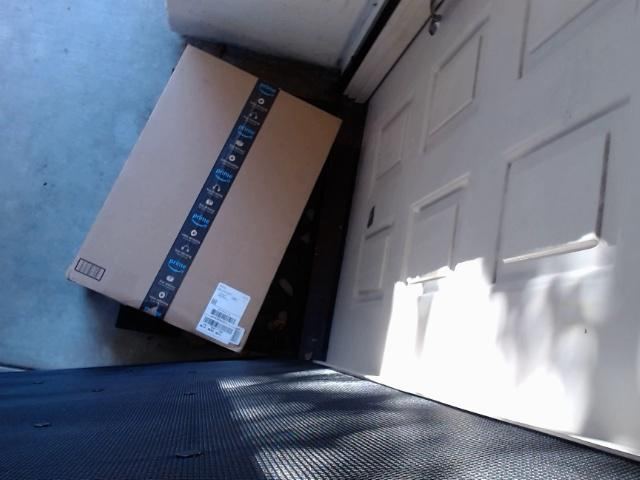box: (66, 55, 361, 349)
